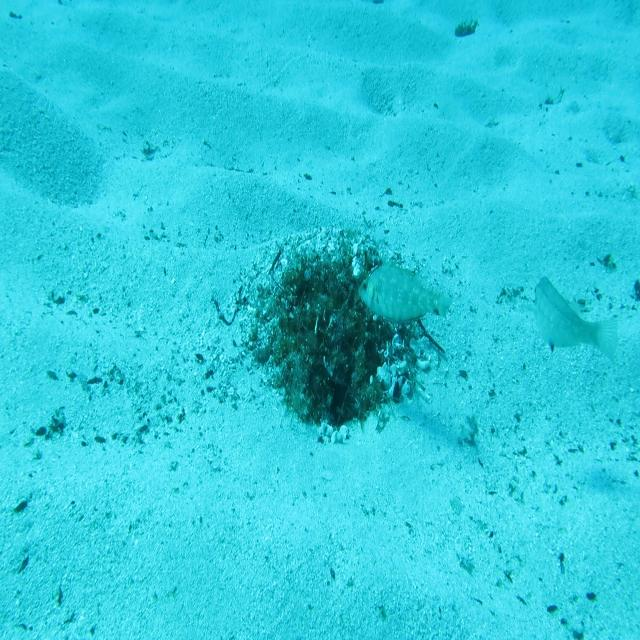ROLL: (358, 250, 456, 330)
core_nest: (307, 276, 356, 313)
female: (532, 274, 620, 367)
nest: (228, 218, 440, 452)
vegetation: (453, 19, 478, 39)
